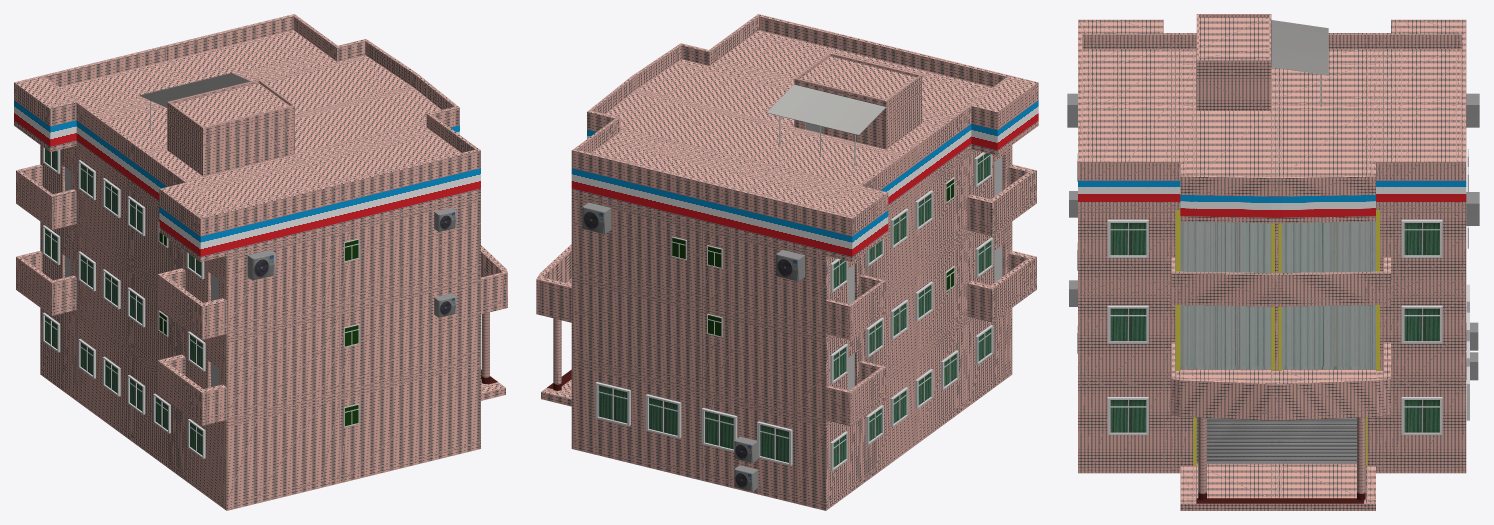
The model's file is TW_dorm.fbx.
The picture shows the model from 3 angles, left to right: view 1: azimuth 30°, elevation 25°; view 2: azimuth 150°, elevation 25°; view 3: azimuth 270°, elevation 25°; orthographic projection. The views are drawn at different scales.
Visible parts, largest first — view 1: 立方体.152; view 2: 立方体.152; view 3: 立方体.152.
Part boxes in pixels (x1,y1,x2,y2): 立方体.152: (14, 14, 507, 510); 立方体.152: (536, 14, 1038, 510); 立方体.152: (1067, 14, 1479, 510).
Size of the model in its own units: 1338 by 1183 by 1264.
13 materials, 7 textured.
